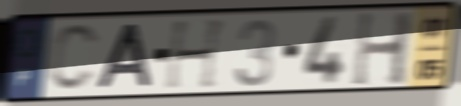3: (233, 17, 278, 89)
4: (301, 13, 348, 87)
A: (94, 21, 155, 92)
C: (46, 21, 103, 94)
H: (350, 9, 417, 90), (163, 16, 231, 92)
